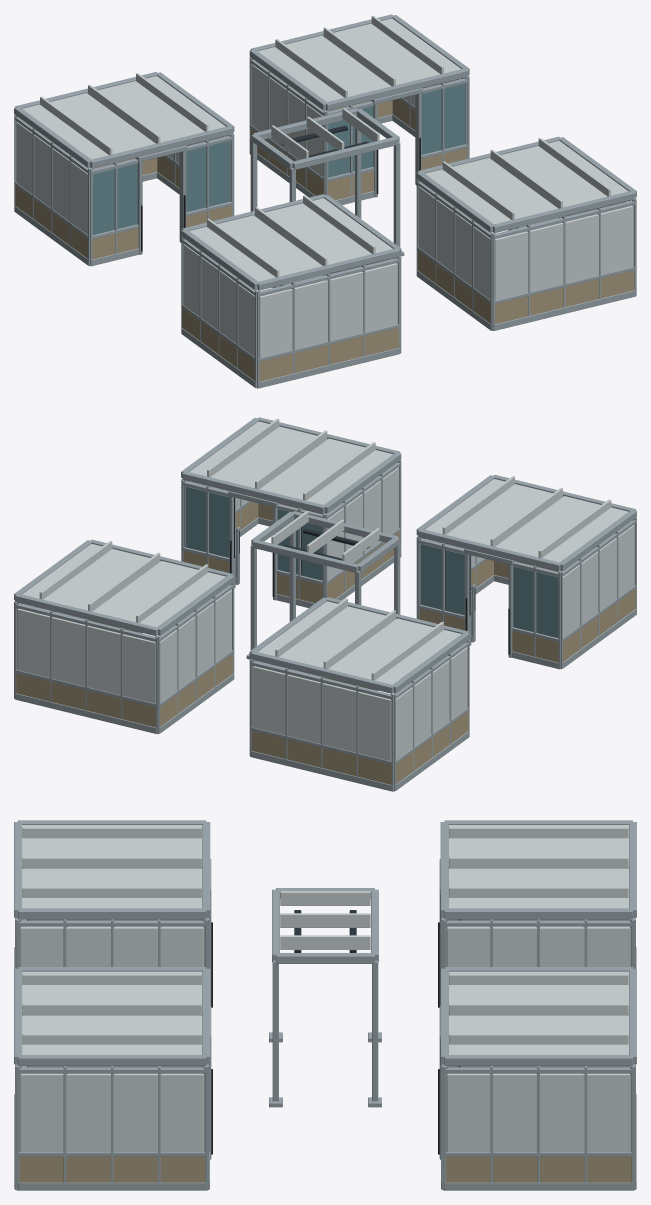
Rendered from SF_W02_Interior.fbx.
The picture shows the model from 3 angles, top to bottom: view 1: azimuth 30°, elevation 25°; view 2: azimuth 150°, elevation 25°; view 3: azimuth 270°, elevation 25°; orthographic projection. The views are drawn at different scales.
Parts seen in each view (by area): view 1: SF_W02_Interior; view 2: SF_W02_Interior; view 3: SF_W02_Interior.
Part boxes in pixels (x1=…): SF_W02_Interior: x1=14, y1=14, x2=636, y2=388; SF_W02_Interior: x1=14, y1=417, x2=636, y2=791; SF_W02_Interior: x1=14, y1=820, x2=636, y2=1190.
Size of the model in its own units: 1136 by 352 by 1256.
